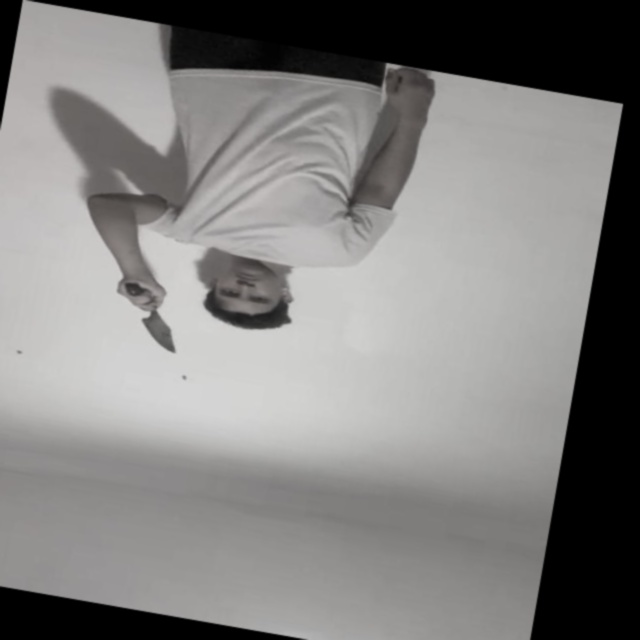Sharp-Object: (130, 308, 189, 355)
